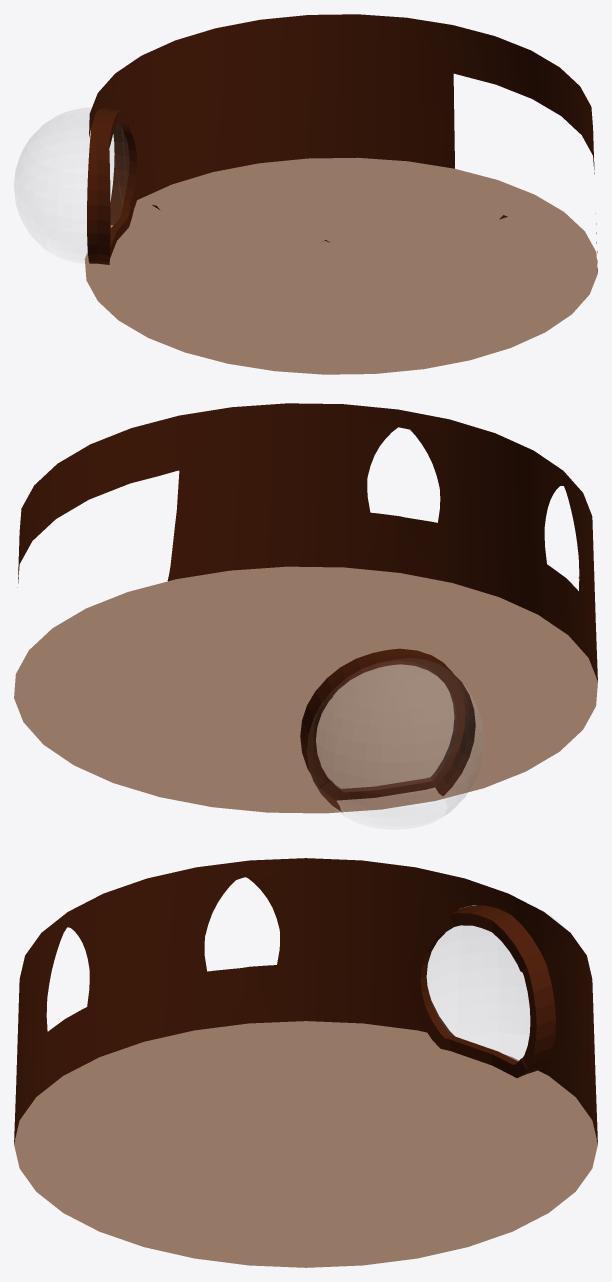
Rendered from MainWalls.fbx.
3 views of the same model, one above another, from view 1: azimuth 30°, elevation 25°; view 2: azimuth 150°, elevation 25°; view 3: azimuth 270°, elevation 25° (orthographic). The views are drawn at different scales.
Visible parts, largest first — view 1: Floor, Walls, GiantWindow.Lvl0; view 2: Floor, Walls, GiantWindow.Lvl0; view 3: Floor, Walls, GiantWindow.Lvl0.
Boxes of the visible parts, x1,y1,x2,y2 form: Floor: (84,157,597,374); Walls: (89,14,597,270); GiantWindow.Lvl0: (14,108,143,264); Floor: (14,566,597,813); Walls: (17,403,597,681); GiantWindow.Lvl0: (300,648,483,816); Floor: (14,1021,597,1267); Walls: (14,858,597,1143); GiantWindow.Lvl0: (409,905,560,1077).
Size of the model in its own units: 3202 by 985 by 3139.
